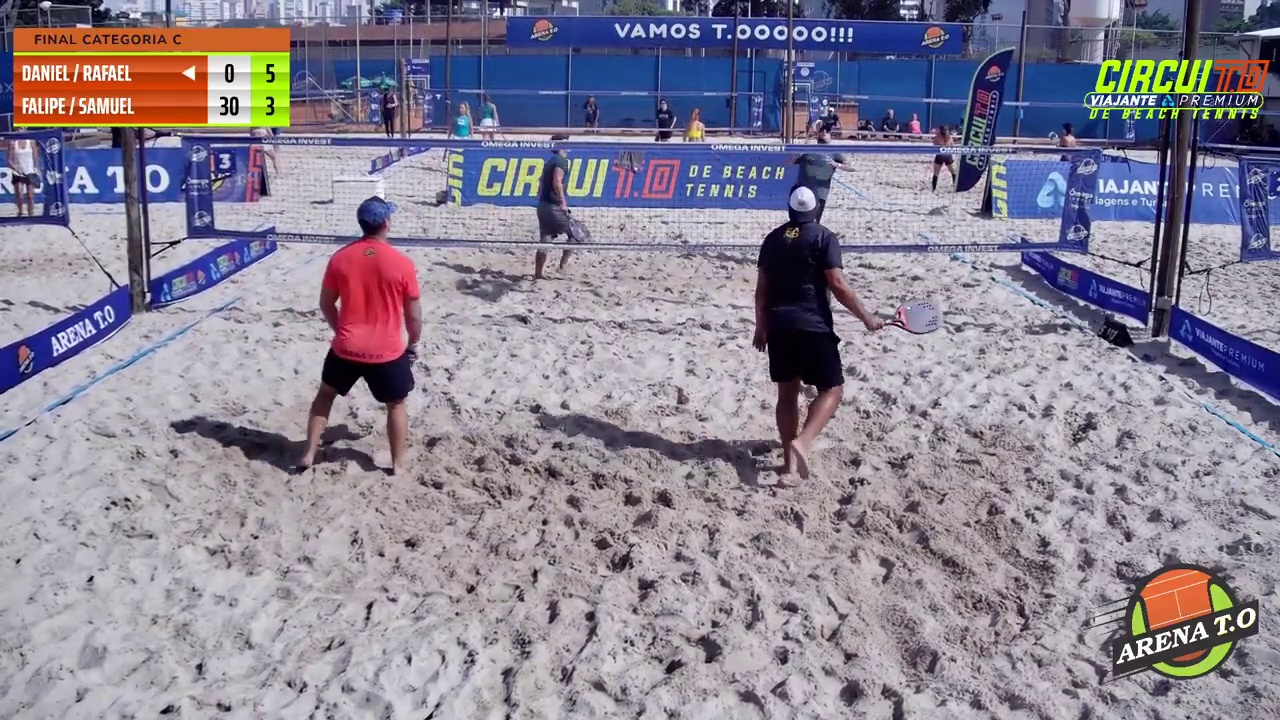court_line: (551, 0, 673, 401)
